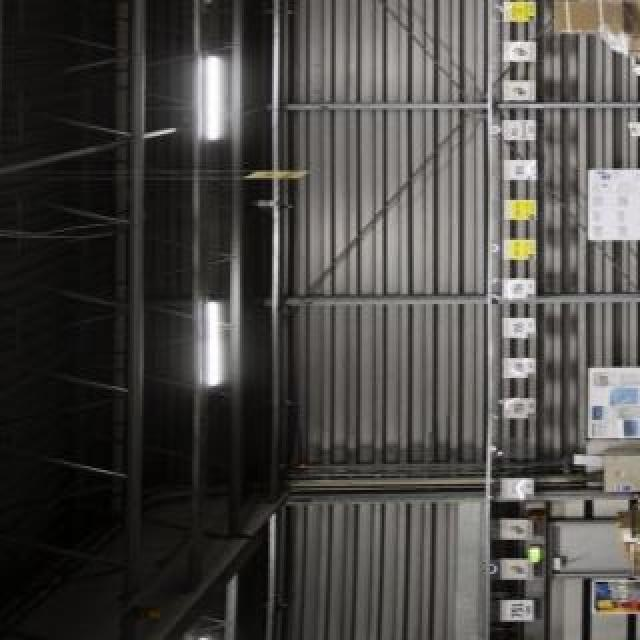fluorescent tube: (196, 291, 231, 389), (198, 47, 226, 153)
